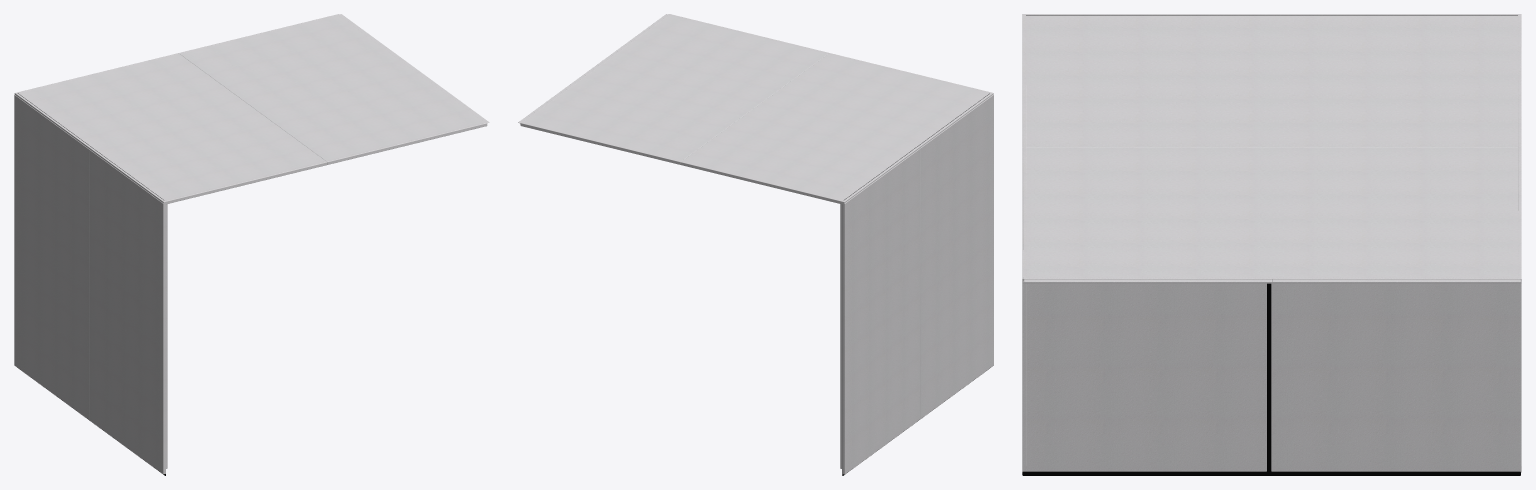
The model's file is rear-top-drywall.glb.
The picture shows the model from 3 angles, left to right: view 1: azimuth 30°, elevation 25°; view 2: azimuth 150°, elevation 25°; view 3: azimuth 270°, elevation 25°; orthographic projection. The views are drawn at different scales.
Visible parts, largest first — view 1: 10FT Blank_DryWall_RearTop_001; view 2: 10FT Blank_DryWall_RearTop_001; view 3: 10FT Blank_DryWall_RearTop_001.
Part boxes in pixels (bbox=[...]): 10FT Blank_DryWall_RearTop_001: bbox=[14, 14, 489, 475]; 10FT Blank_DryWall_RearTop_001: bbox=[518, 14, 993, 475]; 10FT Blank_DryWall_RearTop_001: bbox=[1022, 14, 1521, 475].
Size of the model in its own units: 2.84 by 2.28 by 2.24.
2 materials, 1 textured.
